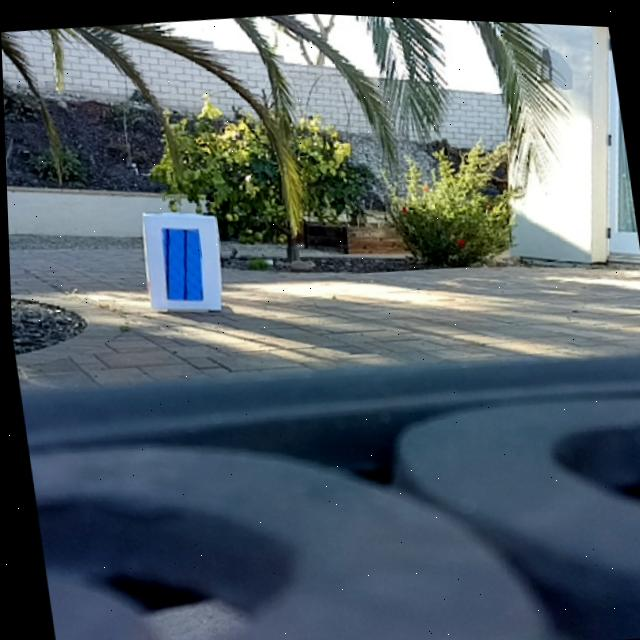led: (156, 221, 206, 304)
